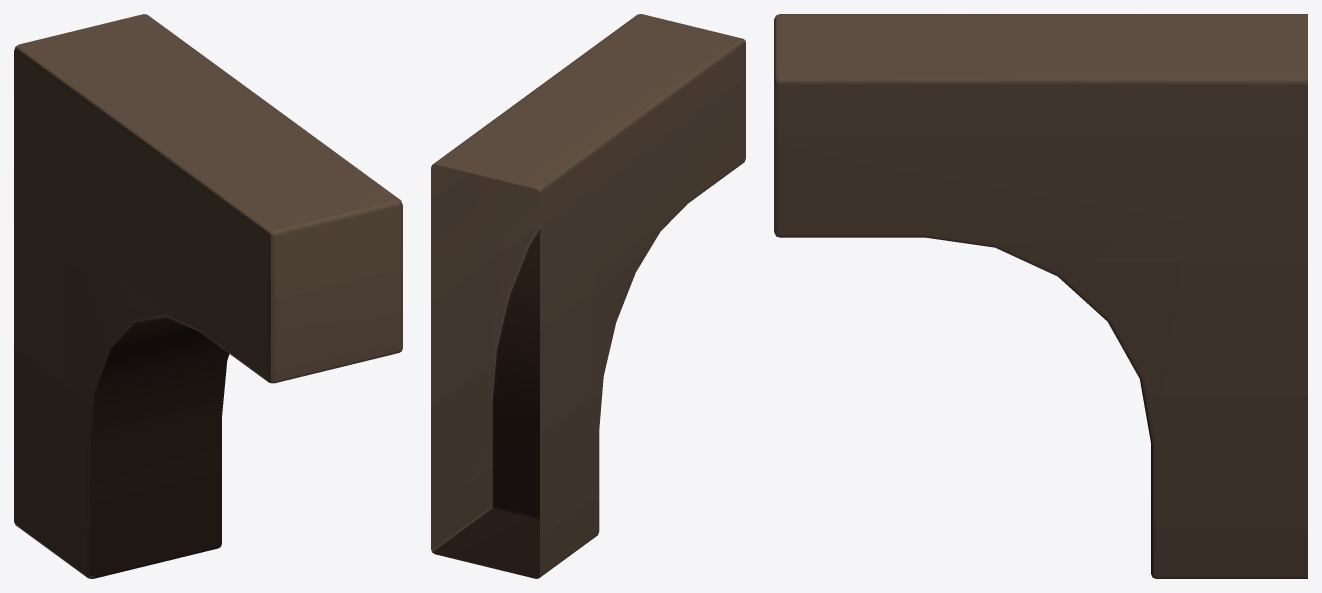
Rendered from SM_hingeFine.fbx.
3 views of the same model, side by side, from view 1: azimuth 30°, elevation 25°; view 2: azimuth 150°, elevation 25°; view 3: azimuth 270°, elevation 25° (orthographic). The views are drawn at different scales.
Visible parts, largest first — view 1: hinge_fine; view 2: hinge_fine; view 3: hinge_fine.
Part boxes in pixels (bbox=[...]): hinge_fine: bbox=[14, 14, 402, 578]; hinge_fine: bbox=[431, 14, 745, 578]; hinge_fine: bbox=[774, 14, 1307, 578].
Size of the model in its own units: 13.11 by 44.8 by 43.25.
